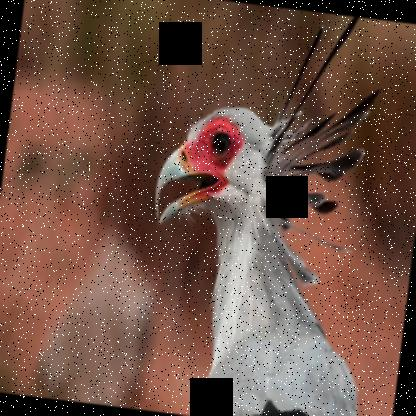Sagittarius serpentarius: (128, 0, 413, 415)
